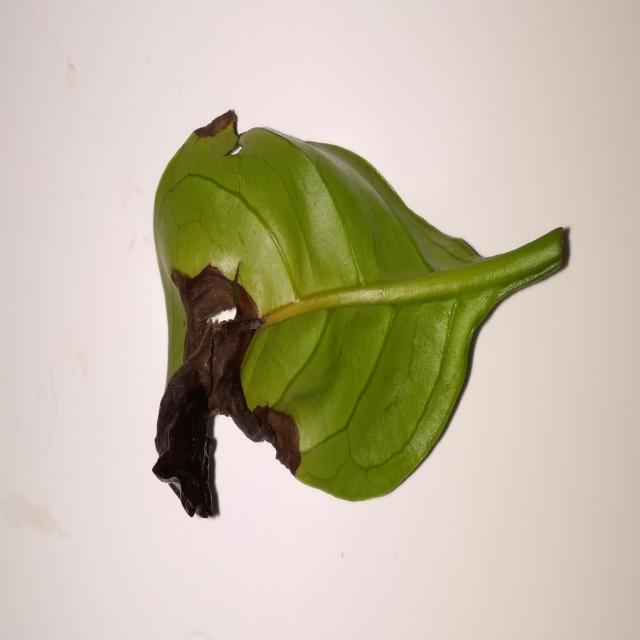Enfermedad-Antracnosis: (152, 111, 572, 521)
